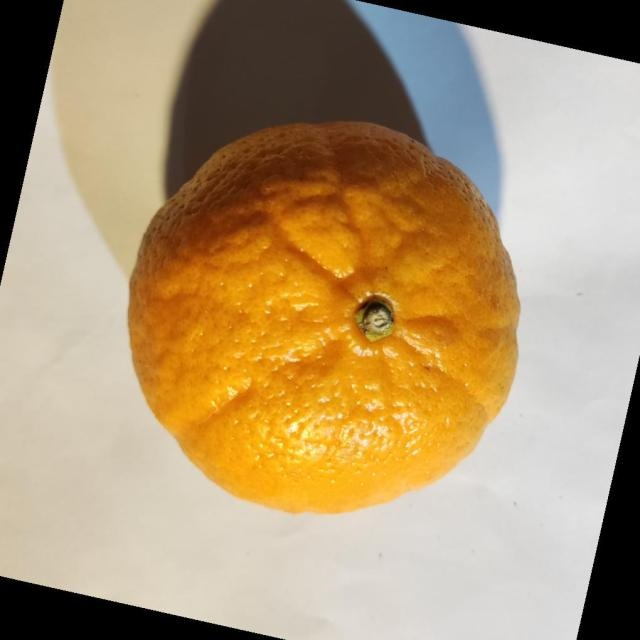agrume: (126, 119, 521, 515)
